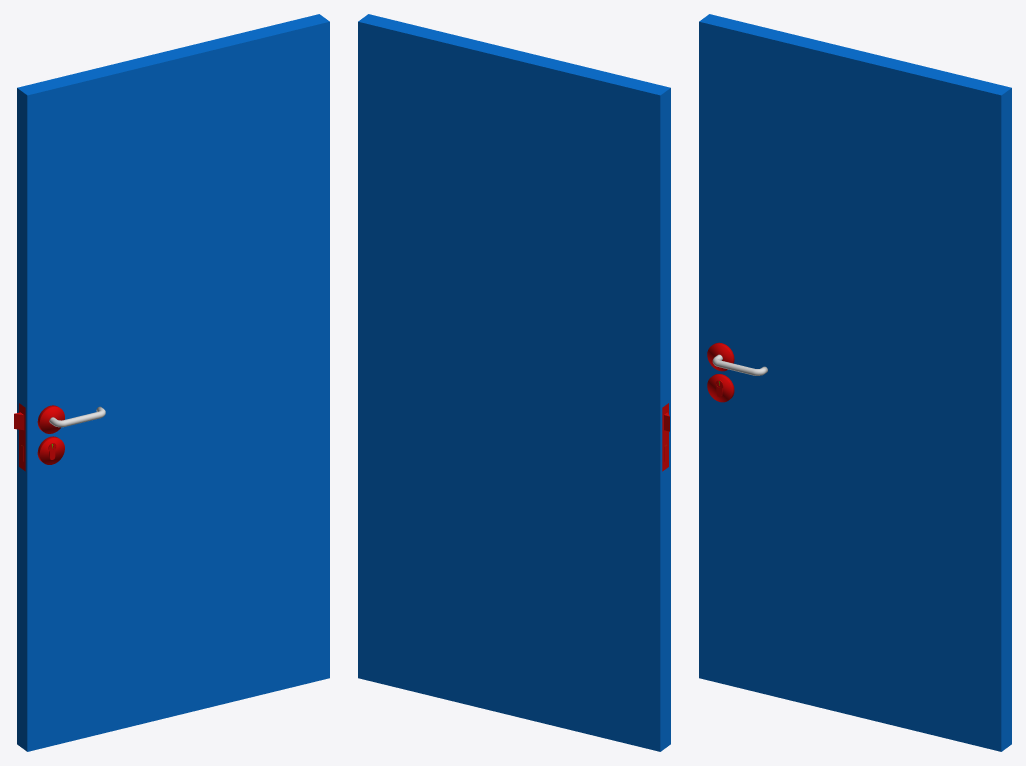
The model's file is Door.fbx.
The picture shows the model from 3 angles, left to right: view 1: azimuth 30°, elevation 25°; view 2: azimuth 150°, elevation 25°; view 3: azimuth 330°, elevation 25°; orthographic projection.
Parts seen in each view (by area): view 1: Door; view 2: Door; view 3: Door.
Boxes of the visible parts, bbox=[...] form: Door: bbox=[14, 14, 329, 751]; Door: bbox=[358, 14, 670, 751]; Door: bbox=[699, 14, 1011, 751].
Bounding box in the file's own units: 99.23 × 202 × 11.37.
